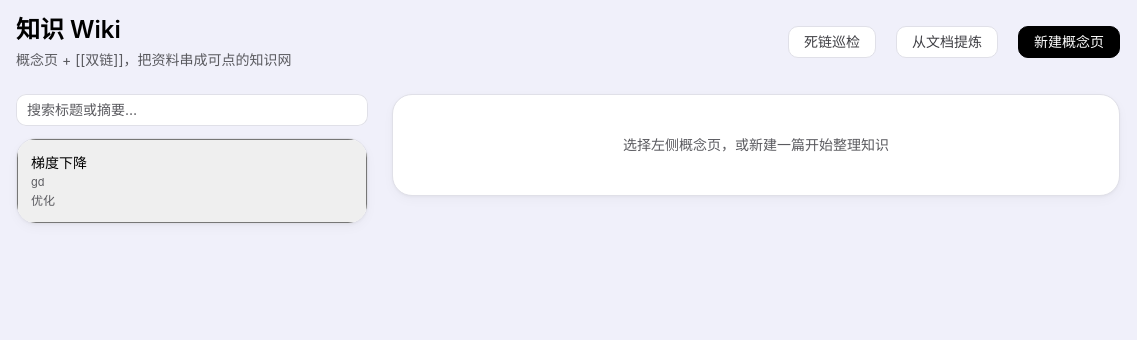
Scenario: WikiView F1 双链渲染产物 › 活链带 wiki-link-ok，死链带 wiki-link-dead 与创建提示 title
This screenshot has width=1137, height=340.
Click the button with test id "wiki-item-gd" at (59, 162), box [17, 139, 367, 223]
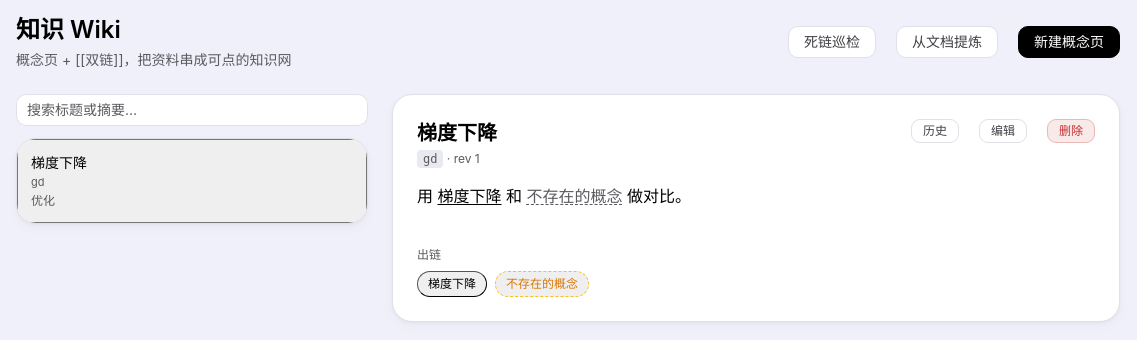
Expected: the link "梯度下降" is shown, [438, 186, 502, 206]
Expected: the link with class "wiki-link-dead" is shown, [526, 186, 622, 206]
